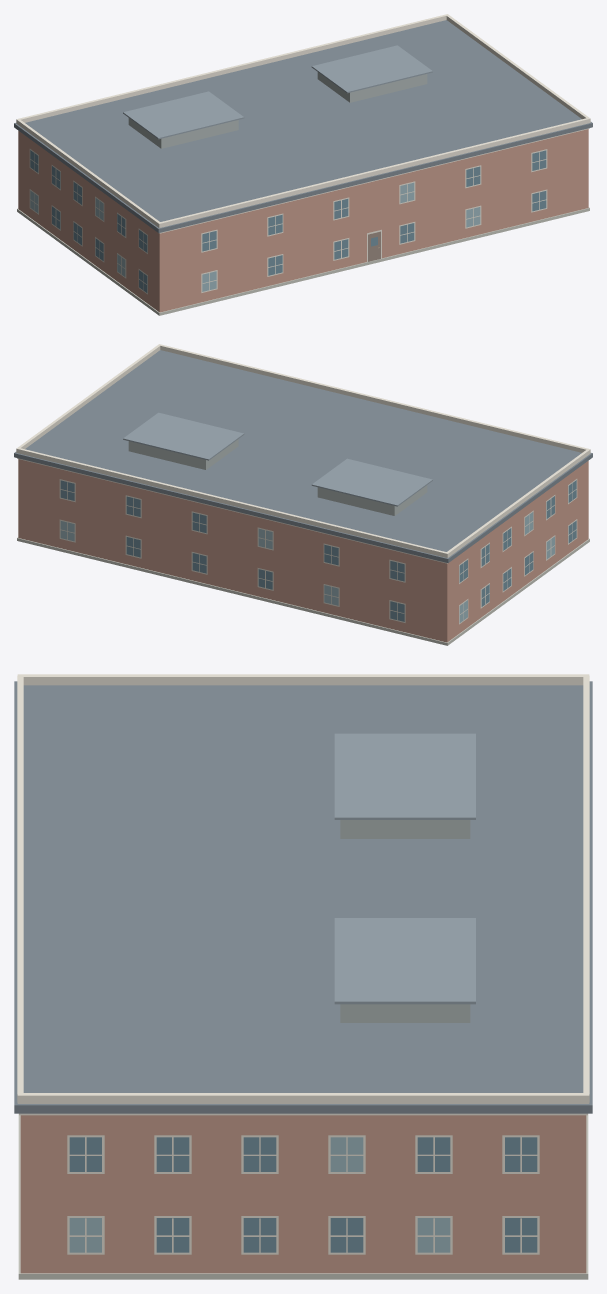
File: civic-school.glb
The picture shows the model from 3 angles, top to bottom: view 1: azimuth 30°, elevation 25°; view 2: azimuth 150°, elevation 25°; view 3: azimuth 270°, elevation 25°; orthographic projection. The views are drawn at different scales.
Visible parts, largest first — view 1: civic-school; view 2: civic-school; view 3: civic-school.
Part boxes in pixels (x1,y1,x2,y2): civic-school: (14, 14, 592, 315); civic-school: (14, 344, 592, 645); civic-school: (14, 674, 592, 1279).
Size of the model in its own units: 35.45 by 7.87 by 20.45.
